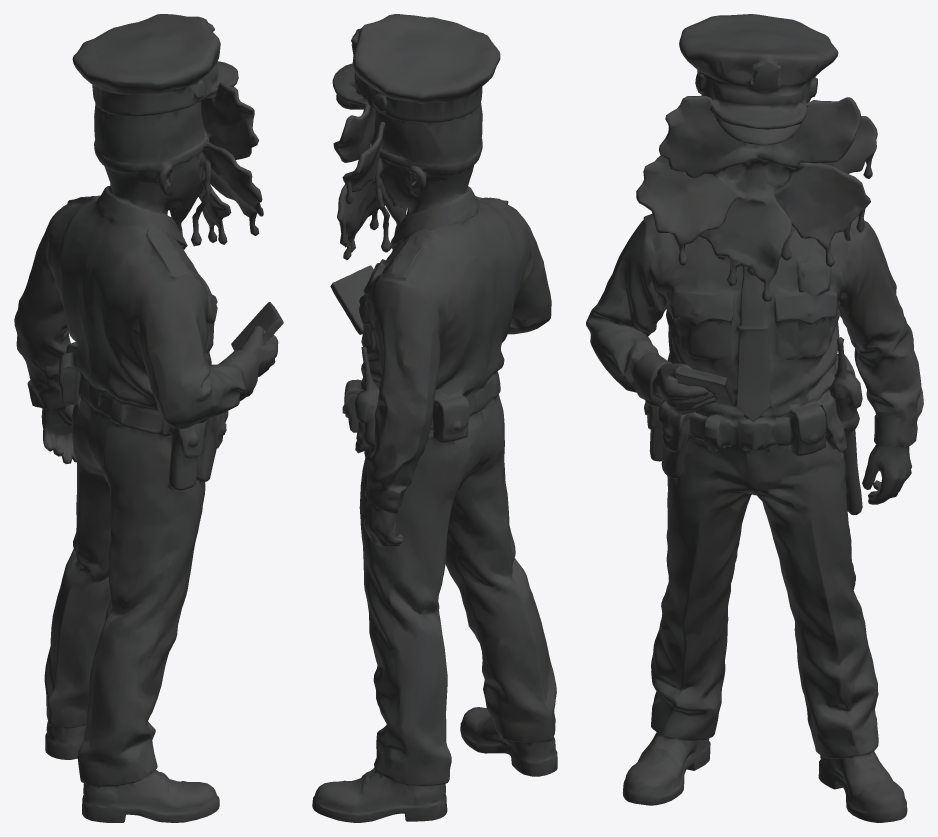
File: ts_transitcop.glb
The picture shows the model from 3 angles, left to right: view 1: azimuth 30°, elevation 25°; view 2: azimuth 150°, elevation 25°; view 3: azimuth 270°, elevation 25°; orthographic projection. The views are drawn at different scales.
Parts seen in each view (by area): view 1: tripo_node_3cc6df27-3ace-4fd7-ab6c-330a9929bd8a; view 2: tripo_node_3cc6df27-3ace-4fd7-ab6c-330a9929bd8a; view 3: tripo_node_3cc6df27-3ace-4fd7-ab6c-330a9929bd8a.
Boxes of the visible parts, x1,y1,x2,y2 form: tripo_node_3cc6df27-3ace-4fd7-ab6c-330a9929bd8a: [14, 14, 283, 822]; tripo_node_3cc6df27-3ace-4fd7-ab6c-330a9929bd8a: [312, 14, 557, 822]; tripo_node_3cc6df27-3ace-4fd7-ab6c-330a9929bd8a: [586, 14, 923, 822].
Bounding box in the file's own units: 0.2962 × 1 × 0.394.
1 material, 1 textured.
